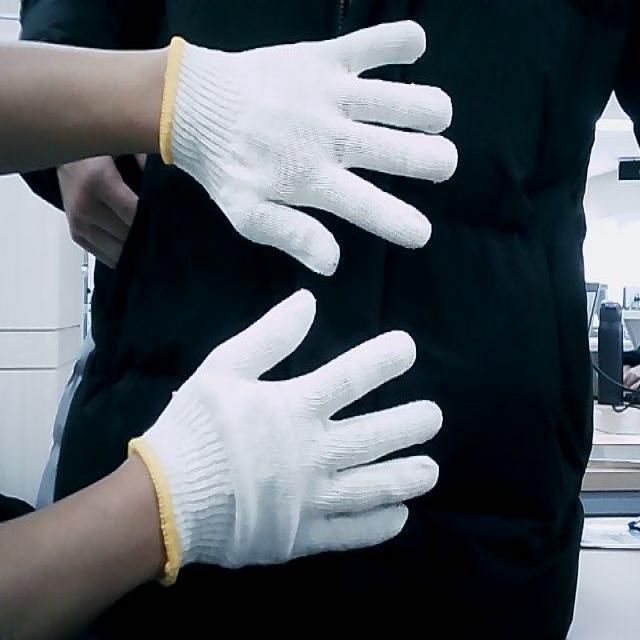gloves: (130, 290, 444, 582), (160, 20, 460, 276)
